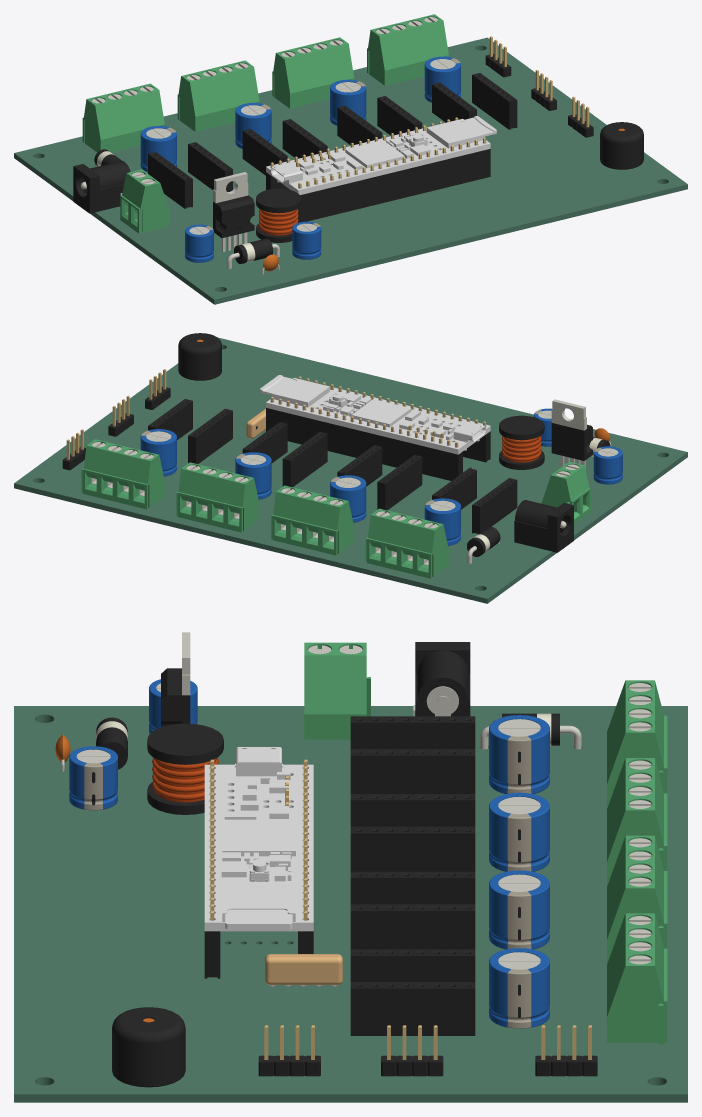
File: monture.glb
3 renders of one model, top to bottom at view 1: azimuth 30°, elevation 25°; view 2: azimuth 150°, elevation 25°; view 3: azimuth 270°, elevation 25°, orthographic. The views are drawn at different scales.
Visible parts, largest first — view 1: =>[0:1:1:38], =>[0:1:1:25] (×4), =>[0:1:1:5] (×8), =>[0:1:1:19], =>[0:1:1:11], =>[0:1:1:7] (×4), =>[0:1:1:37], =>[0:1:1:35], =>[0:1:1:29], =>[0:1:1:31] (×2), =>[0:1:1:21], =>[0:1:1:33] (+3 smaller); view 2: =>[0:1:1:38], =>[0:1:1:25] (×4), =>[0:1:1:5] (×8), =>[0:1:1:19], =>[0:1:1:11] (×2), =>[0:1:1:7] (×4), =>[0:1:1:29], =>[0:1:1:21], =>[0:1:1:37], =>[0:1:1:33], =>[0:1:1:35], =>[0:1:1:3] (×3) (+3 smaller); view 3: =>[0:1:1:38], =>[0:1:1:5] (×8), =>[0:1:1:25] (×4), =>[0:1:1:7] (×4), =>[0:1:1:19], =>[0:1:1:35], =>[0:1:1:3] (×3), =>[0:1:1:21], =>[0:1:1:33], =>[0:1:1:29], =>[0:1:1:31] (×2), =>[0:1:1:23] (+4 smaller).
Boxes of the visible parts, x1=… form: =>[0:1:1:38]: x1=14, y1=37, x2=687, y2=304; =>[0:1:1:25] (×4): x1=82, y1=14, x2=448, y2=152; =>[0:1:1:5] (×8): x1=148, y1=73, x2=517, y2=208; =>[0:1:1:19]: x1=266, y1=116, x2=496, y2=194; =>[0:1:1:11]: x1=298, y1=149, x2=490, y2=222; =>[0:1:1:7] (×4): x1=140, y1=56, x2=460, y2=171; =>[0:1:1:37]: x1=213, y1=172, x2=254, y2=251; =>[0:1:1:35]: x1=120, y1=169, x2=169, y2=233; =>[0:1:1:29]: x1=73, y1=161, x2=130, y2=213; =>[0:1:1:31] (×2): x1=185, y1=221, x2=321, y2=262; =>[0:1:1:21]: x1=256, y1=188, x2=301, y2=242; =>[0:1:1:33]: x1=600, y1=122, x2=643, y2=169; =>[0:1:1:38]: x1=14, y1=337, x2=687, y2=603; =>[0:1:1:25] (×4): x1=81, y1=439, x2=448, y2=578; =>[0:1:1:5] (×8): x1=148, y1=399, x2=517, y2=533; =>[0:1:1:19]: x1=260, y1=375, x2=490, y2=454; =>[0:1:1:11] (×2): x1=266, y1=408, x2=490, y2=480; =>[0:1:1:7] (×4): x1=140, y1=429, x2=460, y2=545; =>[0:1:1:29]: x1=514, y1=500, x2=573, y2=552; =>[0:1:1:21]: x1=499, y1=415, x2=544, y2=469; =>[0:1:1:37]: x1=551, y1=399, x2=592, y2=469; =>[0:1:1:33]: x1=178, y1=333, x2=221, y2=380; =>[0:1:1:35]: x1=541, y1=461, x2=590, y2=524; =>[0:1:1:3] (×3): x1=62, y1=369, x2=170, y2=470; =>[0:1:1:38]: x1=14, y1=706, x2=687, y2=1102; =>[0:1:1:5] (×8): x1=350, y1=716, x2=475, y2=1035; =>[0:1:1:25] (×4): x1=607, y1=680, x2=667, y2=1044; =>[0:1:1:7] (×4): x1=489, y1=715, x2=549, y2=1028; =>[0:1:1:19]: x1=204, y1=747, x2=313, y2=931; =>[0:1:1:35]: x1=304, y1=642, x2=370, y2=739; =>[0:1:1:3] (×3): x1=258, y1=1025, x2=597, y2=1076; =>[0:1:1:21]: x1=147, y1=723, x2=223, y2=814; =>[0:1:1:33]: x1=112, y1=1007, x2=185, y2=1087; =>[0:1:1:29]: x1=413, y1=642, x2=470, y2=716; =>[0:1:1:31] (×2): x1=69, y1=679, x2=197, y2=810; =>[0:1:1:23]: x1=265, y1=954, x2=342, y2=986.
Size of the model in its own units: 0.1518 by 0.0248 by 0.11.
